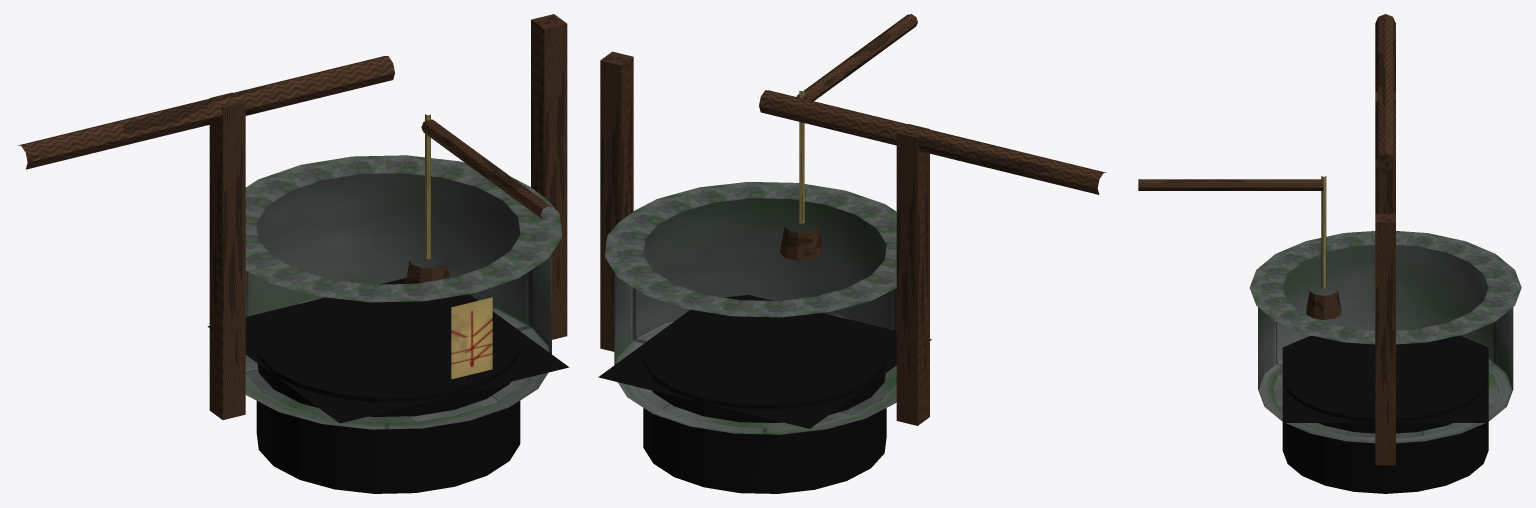
The model's file is stone_well.glb.
3 renders of one model, left to right at view 1: azimuth 30°, elevation 25°; view 2: azimuth 150°, elevation 25°; view 3: azimuth 270°, elevation 25°, orthographic. The views are drawn at different scales.
Visible parts, largest first — view 1: Ring, HoleBottom, Hole, Rim, Post-7, Crossbar, Post7, Talisman, Axle, Rope, Bucket; view 2: Ring, HoleBottom, Hole, Rim, Post-7, Crossbar, Post7, Axle, Bucket, Rope; view 3: Ring, HoleBottom, Hole, Rim, Post7, Crossbar, Axle, Post-7, Bucket, Rope.
Boxes of the visible parts, <box> form: Ring: <box>245,173,551,429</box>; HoleBottom: <box>207,278,569,423</box>; Hole: <box>256,338,520,493</box>; Rim: <box>245,155,562,302</box>; Post-7: <box>209,92,245,419</box>; Crossbar: <box>18,56,394,169</box>; Post7: <box>531,14,567,339</box>; Talisman: <box>451,297,492,379</box>; Axle: <box>421,119,551,219</box>; Rope: <box>425,114,430,259</box>; Bucket: <box>405,260,449,283</box>; Ring: <box>614,198,896,434</box>; HoleBottom: <box>598,294,931,428</box>; Hole: <box>643,350,886,493</box>; Rim: <box>604,182,896,317</box>; Post-7: <box>896,124,929,425</box>; Crossbar: <box>759,90,1106,194</box>; Post7: <box>600,51,633,351</box>; Axle: <box>796,14,917,101</box>; Bucket: <box>780,225,823,260</box>; Rope: <box>799,90,804,223</box>; Ring: <box>1258,245,1513,443</box>; HoleBottom: <box>1282,336,1488,422</box>; Hole: <box>1282,376,1488,493</box>; Rim: <box>1249,231,1521,344</box>; Post7: <box>1375,213,1395,465</box>; Crossbar: <box>1375,14,1395,171</box>; Axle: <box>1138,179,1323,190</box>; Post-7: <box>1375,91,1395,213</box>; Bucket: <box>1306,289,1341,319</box>; Rope: <box>1321,176,1326,288</box>.
Size of what is drawn, in the model's own units: 2.35 by 1.59 by 1.86.
Materials: 5 (5 with a texture image).
